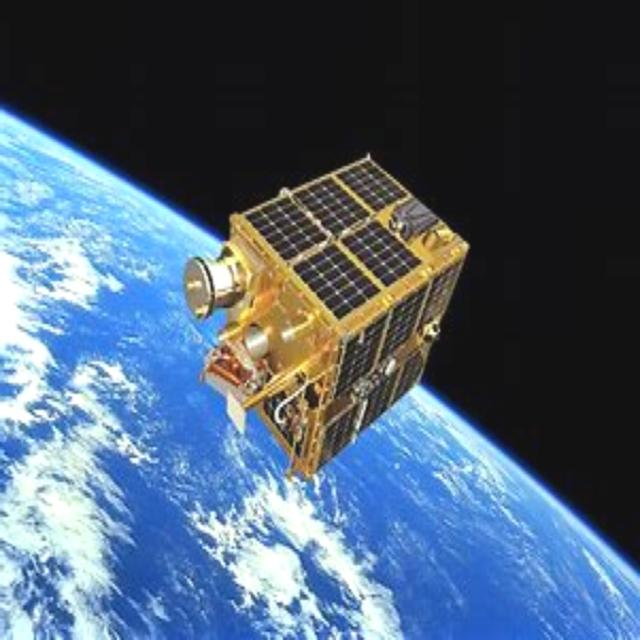satellite: (188, 129, 490, 498)
